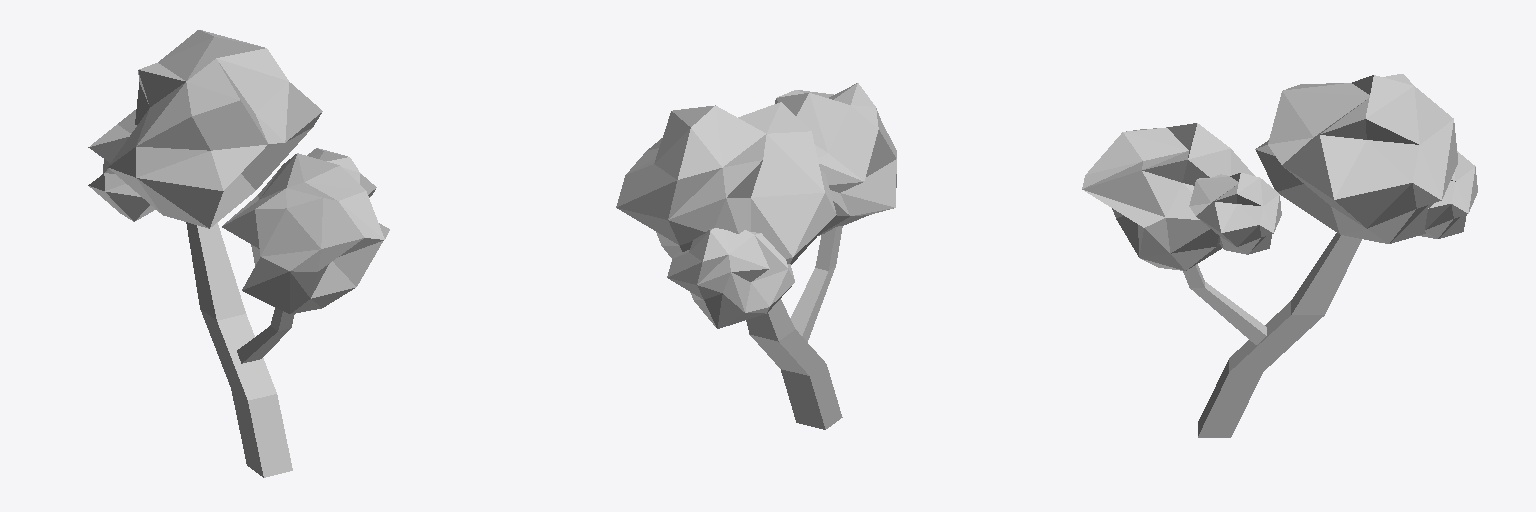
Rendered from tree4.obj.
3 renders of one model, left to right at view 1: azimuth 30°, elevation 25°; view 2: azimuth 150°, elevation 25°; view 3: azimuth 270°, elevation 25°, orthographic.
Visible parts, largest first — view 1: Icosphere.010_Icosphere.009, Icosphere.009_Icosphere.008, Cube.008_Cube.012; view 2: Icosphere.010_Icosphere.009, Icosphere.009_Icosphere.008, Cube.008_Cube.012; view 3: Icosphere.010_Icosphere.009, Icosphere.009_Icosphere.008, Cube.008_Cube.012.
Part boxes in pixels (bbox=[...]): Icosphere.010_Icosphere.009: bbox=[88, 30, 322, 228]; Icosphere.009_Icosphere.008: bbox=[222, 148, 389, 313]; Cube.008_Cube.012: bbox=[186, 222, 294, 477]; Icosphere.010_Icosphere.009: bbox=[616, 102, 836, 328]; Icosphere.009_Icosphere.008: bbox=[775, 83, 896, 235]; Cube.008_Cube.012: bbox=[746, 226, 842, 429]; Icosphere.010_Icosphere.009: bbox=[1255, 74, 1477, 243]; Icosphere.009_Icosphere.008: bbox=[1082, 123, 1281, 270]; Cube.008_Cube.012: bbox=[1183, 233, 1361, 437].
Size of the model in its own units: 1.55 by 2.88 by 2.82.